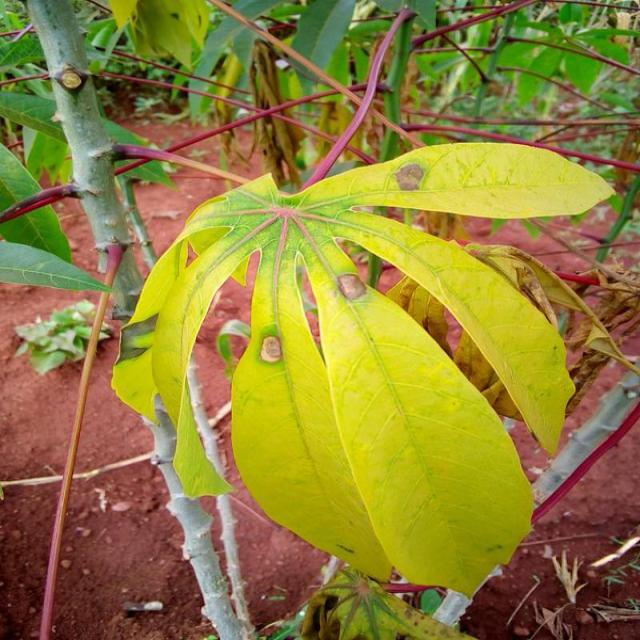cassava leaf: (112, 139, 618, 596)
